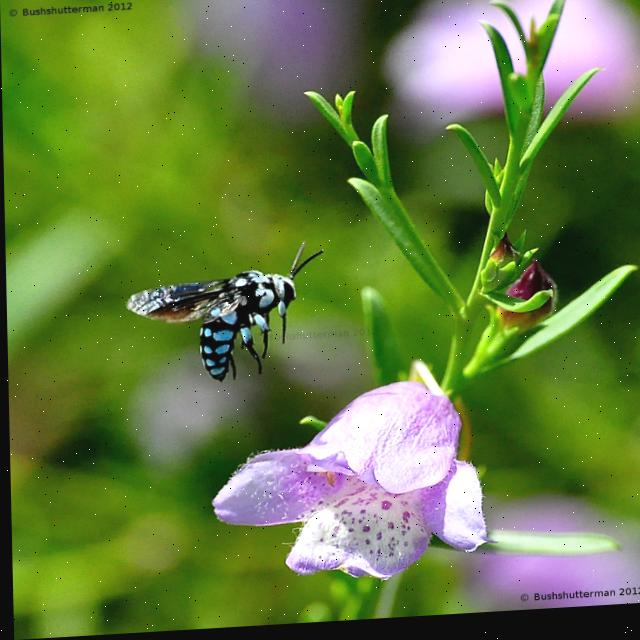Thyreus: (122, 242, 328, 396)
